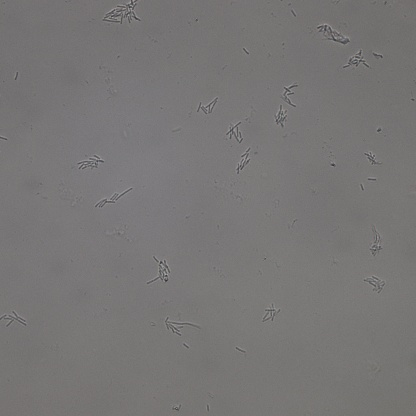R(colony): (103, 1, 141, 24), (95, 187, 133, 208), (146, 255, 171, 284), (164, 317, 200, 337), (317, 23, 350, 44), (235, 148, 252, 174), (343, 50, 369, 67), (1, 311, 28, 327), (76, 155, 104, 170), (363, 275, 385, 294), (226, 120, 244, 142), (196, 97, 218, 115), (370, 225, 382, 257), (262, 304, 281, 324), (273, 104, 288, 127), (283, 84, 298, 107), (364, 152, 382, 167)
